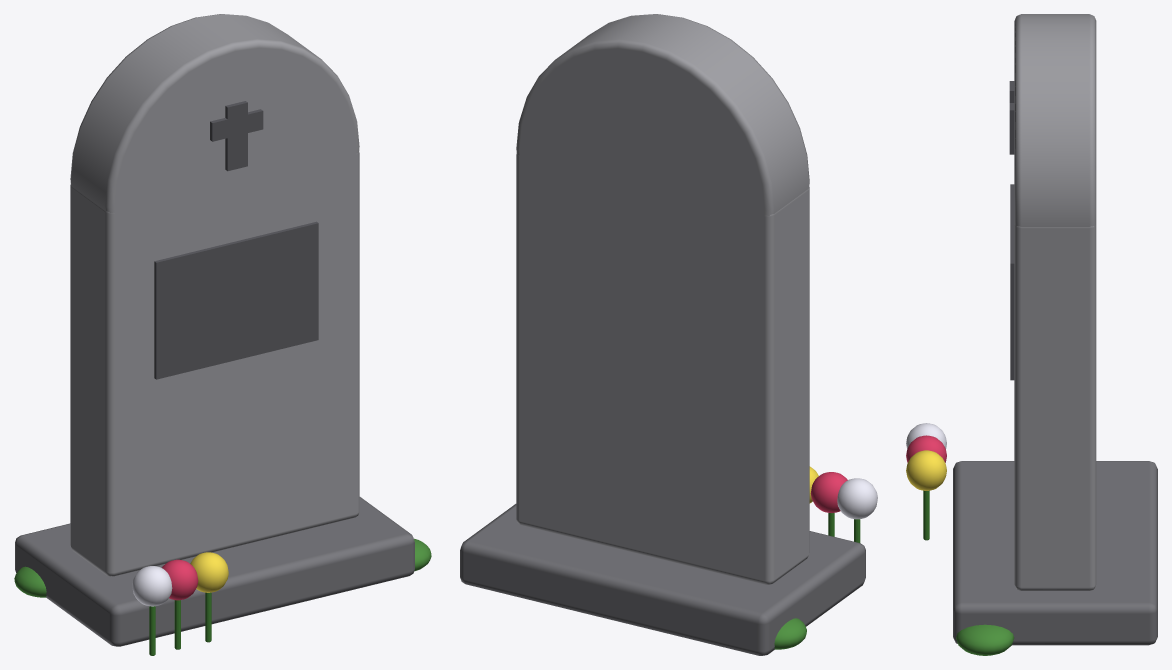
The model's file is tombstone.glb.
3 renders of one model, left to right at view 1: azimuth 30°, elevation 25°; view 2: azimuth 150°, elevation 25°; view 3: azimuth 270°, elevation 25°, orthographic.
Visible parts, largest first — view 1: Cube.001, Cylinder, Cube, Cube.002, Cube.003, Sphere.002, Sphere.001, Cube.004, Sphere, Sphere.003; view 2: Cube.001, Cylinder, Cube, Sphere.002, Sphere, Sphere.003; view 3: Cube.001, Cube, Cylinder, Sphere.004, Sphere.001, Cube.002, Sphere, Sphere.002.
Boxes of the visible parts, box(x1,y1,x2,y2) form: Cube.001: box(70, 151, 359, 576); Cylinder: box(70, 14, 359, 282); Cube: box(15, 497, 414, 646); Cube.002: box(154, 221, 318, 379); Cube.003: box(225, 101, 247, 171); Sphere.002: box(132, 566, 172, 606); Sphere.001: box(190, 552, 228, 592); Cube.004: box(210, 109, 263, 141); Sphere: box(162, 559, 198, 600); Sphere.003: box(14, 566, 46, 597); Cube.001: box(516, 154, 809, 584); Cylinder: box(516, 14, 809, 311); Cube: box(460, 504, 865, 655); Sphere.002: box(837, 478, 877, 519); Sphere: box(810, 472, 847, 512); Sphere.003: box(774, 618, 806, 649); Cube.001: box(1014, 225, 1096, 590); Cube: box(953, 461, 1157, 645); Cylinder: box(1014, 14, 1096, 226); Sphere.004: box(956, 624, 1014, 655); Sphere.001: box(906, 450, 946, 490); Cube.002: box(1010, 184, 1014, 380); Sphere: box(906, 435, 946, 462); Sphere.002: box(906, 423, 946, 448).
Size of the model in its own units: 0.68 by 1.03 by 0.43.
